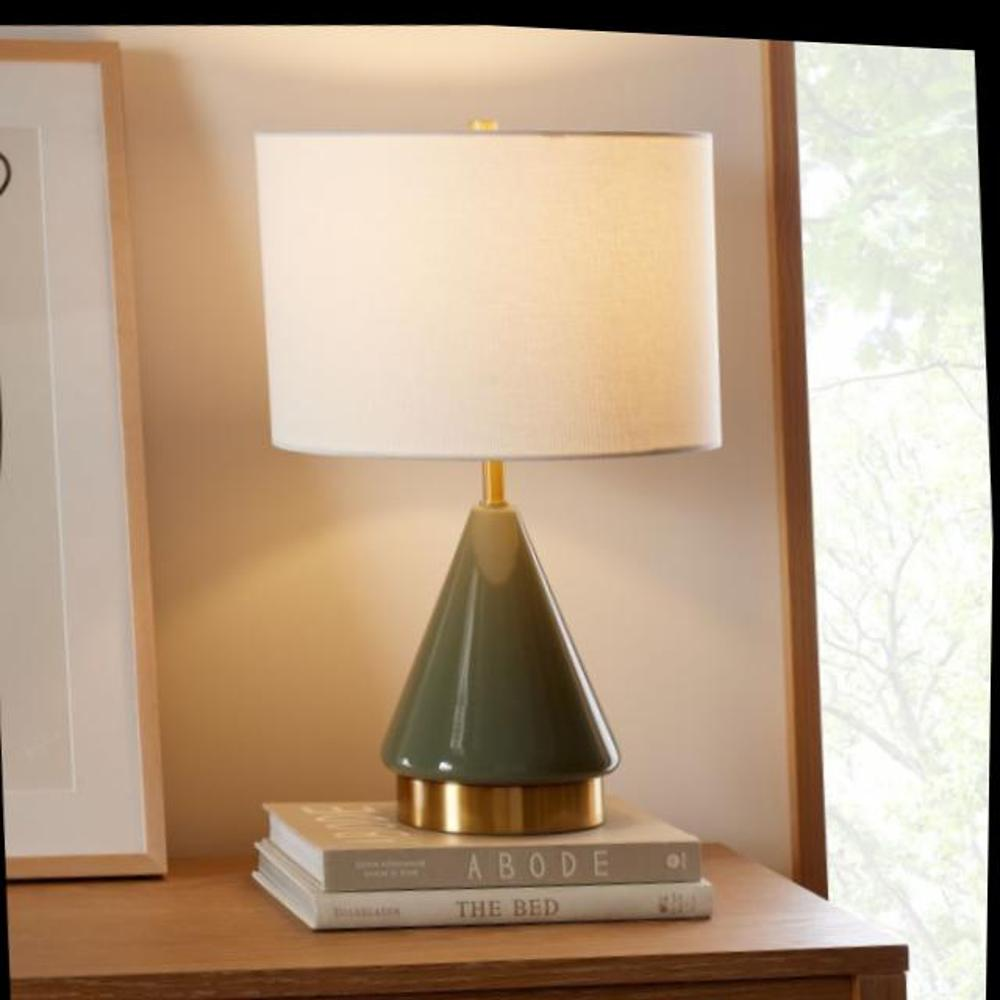shelf: (197, 32, 787, 857)
